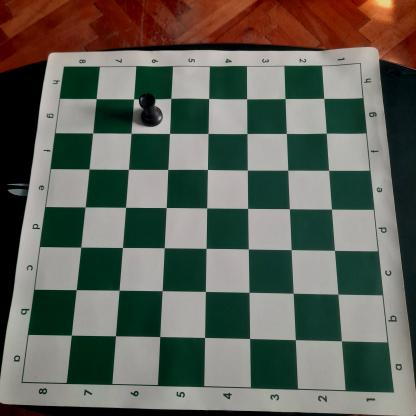black-rook: (136, 92, 168, 129)
